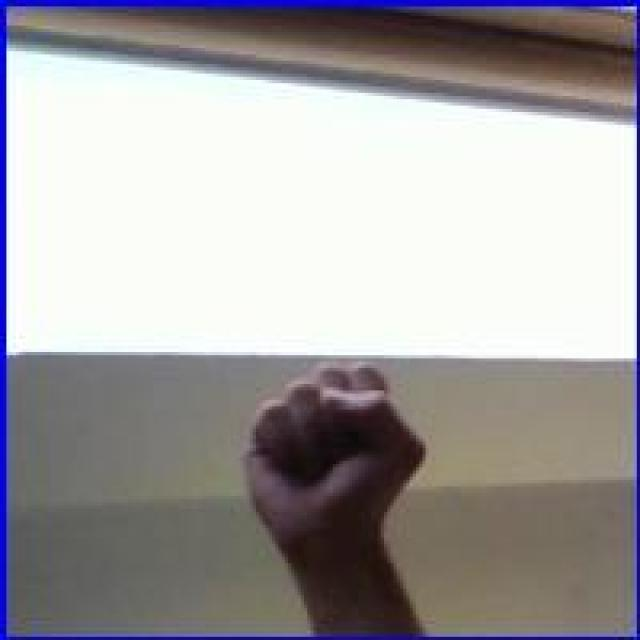S: (232, 340, 434, 550)
